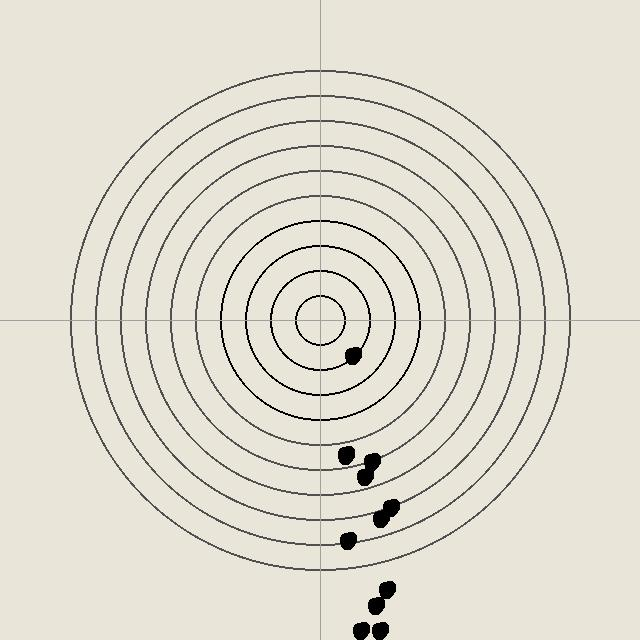vertical_scatter: (380, 497, 400, 517), (370, 508, 390, 528), (335, 444, 355, 464), (369, 620, 389, 640), (337, 530, 357, 550), (335, 445, 355, 465), (354, 466, 374, 486), (342, 345, 362, 365), (365, 595, 385, 615), (376, 579, 396, 599), (361, 451, 381, 471), (350, 620, 370, 640)
